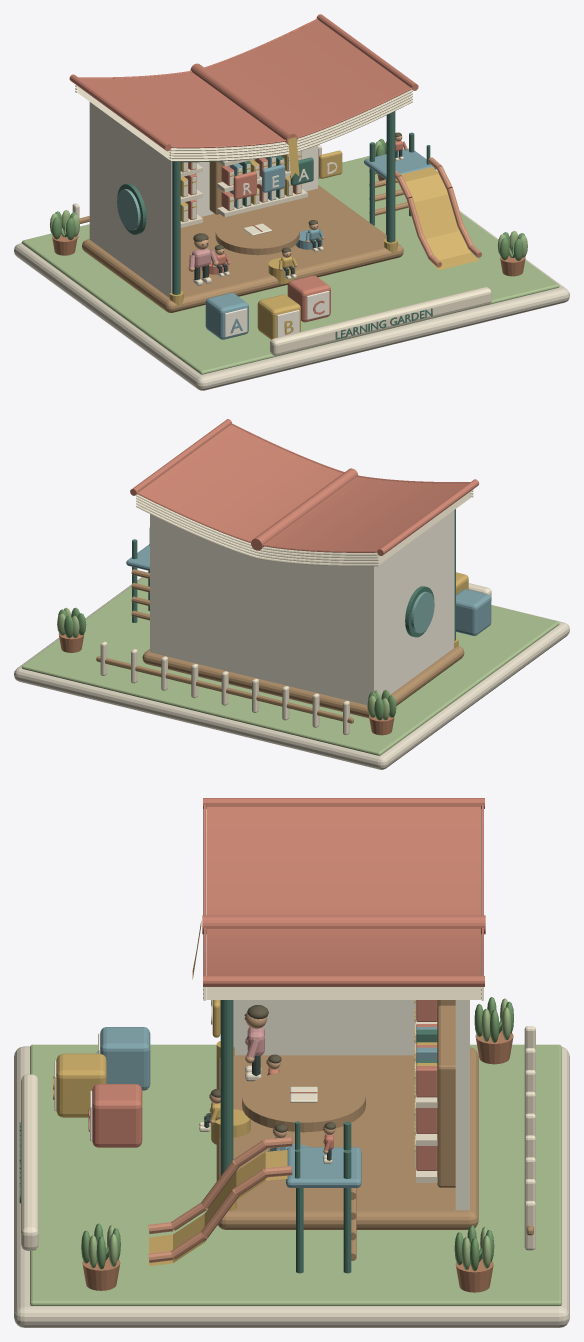
File: learning-garden.glb
3 views of the same model, one above another, from view 1: azimuth 30°, elevation 25°; view 2: azimuth 150°, elevation 25°; view 3: azimuth 270°, elevation 25° (orthographic). The views are drawn at different scales.
Visible parts, largest first — view 1: Coral.002, Grass.002, Wood.002, Ivory.002, Stone Light.002, Gold.002, Cream.002, Paper.002, Forest.002, Blue.002, Clay Light.002, Leaf.002 (+4 smaller); view 2: Ivory.002, Coral.002, Grass.002, Stone Light.002, Wood.002, Paper.002, Cream.002, Blue.002, Forest.002, Leaf.002, Glass.002, Clay.002 (+1 smaller); view 3: Grass.002, Coral.002, Wood.002, Stone Light.002, Ivory.002, Gold.002, Cream.002, Blue.002, Forest.002, Paper.002, Clay Light.002, Clay.002 (+3 smaller).
Boxes of the visible parts, x1,y1,x2,y2 form: Coral.002: [69, 14, 418, 322]; Grass.002: [21, 156, 559, 374]; Wood.002: [79, 159, 408, 312]; Ivory.002: [89, 102, 337, 337]; Stone Light.002: [14, 211, 569, 390]; Gold.002: [169, 137, 478, 339]; Cream.002: [72, 144, 491, 355]; Paper.002: [75, 85, 412, 235]; Forest.002: [117, 111, 432, 339]; Blue.002: [205, 148, 435, 339]; Clay Light.002: [395, 157, 481, 267]; Leaf.002: [52, 138, 524, 260]; Ivory.002: [150, 510, 454, 705]; Coral.002: [130, 419, 479, 555]; Grass.002: [21, 577, 559, 755]; Stone Light.002: [14, 577, 569, 769]; Wood.002: [96, 569, 464, 723]; Paper.002: [136, 490, 473, 566]; Cream.002: [100, 583, 491, 734]; Blue.002: [126, 544, 491, 635]; Forest.002: [132, 509, 455, 640]; Leaf.002: [58, 607, 396, 720]; Glass.002: [411, 591, 434, 633]; Clay.002: [58, 633, 394, 735]; Grass.002: [30, 1044, 561, 1305]; Coral.002: [88, 798, 485, 1170]; Wood.002: [216, 1000, 533, 1260]; Stone Light.002: [14, 1046, 569, 1327]; Ivory.002: [54, 1000, 469, 1210]; Gold.002: [53, 921, 437, 1266]; Cream.002: [21, 1020, 535, 1250]; Blue.002: [96, 1027, 437, 1187]; Forest.002: [19, 1000, 437, 1273]; Paper.002: [203, 987, 483, 1168]; Clay Light.002: [148, 1137, 292, 1262]; Clay.002: [82, 1030, 513, 1292].
Bounding box in the file's own units: 8 × 4 × 7.
